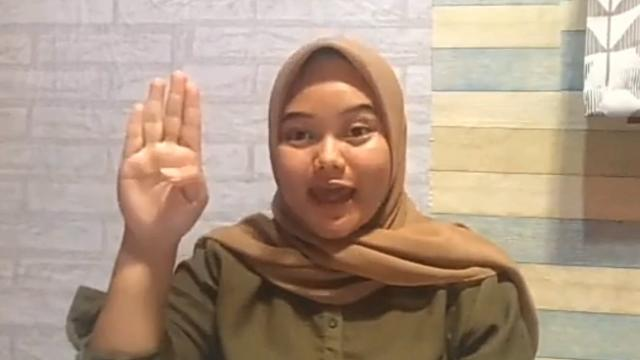B: (116, 69, 210, 245)
